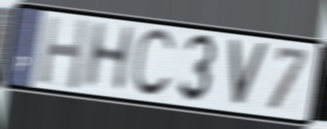3: (174, 33, 221, 106)
7: (265, 44, 310, 114)
C: (129, 27, 178, 101)
H: (79, 19, 138, 93), (37, 13, 91, 93)
V: (227, 36, 271, 111)
